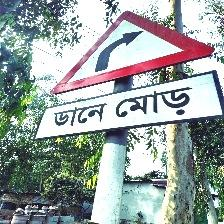Right-turn: (38, 10, 222, 140)
